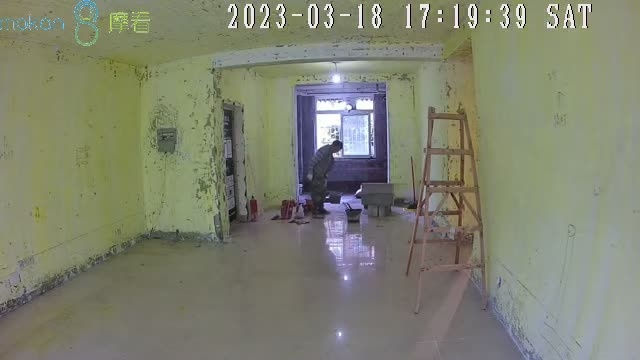people: (309, 140, 342, 218)
window: (313, 95, 377, 161)
